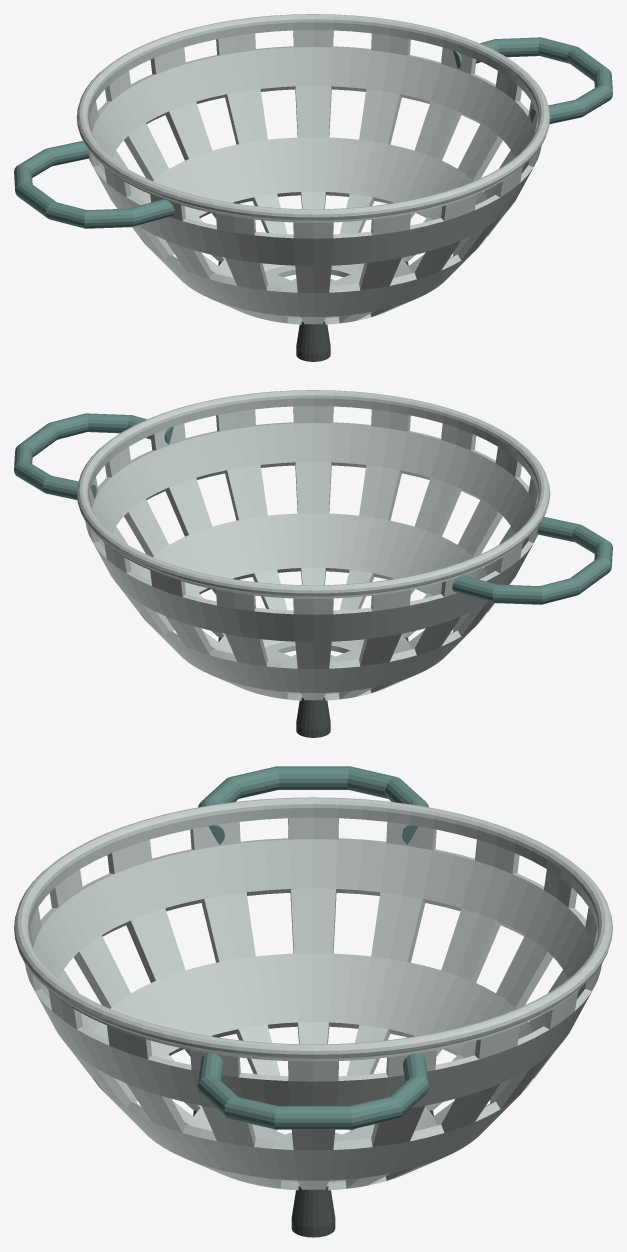
3 renders of one model, top to bottom at view 1: azimuth 30°, elevation 25°; view 2: azimuth 150°, elevation 25°; view 3: azimuth 270°, elevation 25°, orthographic. The views are drawn at different scales.
Parts seen in each view (by area): view 1: WholeRoundSideAndFloorPerforatedBowl, WholeContinuousRolledTopRim, WholeOutwardReturnLoopHandle_-1, WholeOutwardReturnLoopHandle_1, WholeThreeCompleteGroundFeet; view 2: WholeRoundSideAndFloorPerforatedBowl, WholeContinuousRolledTopRim, WholeOutwardReturnLoopHandle_-1, WholeOutwardReturnLoopHandle_1, WholeThreeCompleteGroundFeet; view 3: WholeRoundSideAndFloorPerforatedBowl, WholeContinuousRolledTopRim, WholeOutwardReturnLoopHandle_1, WholeOutwardReturnLoopHandle_-1, WholeThreeCompleteGroundFeet.
Boxes of the visible parts, x1,y1,x2,y2 form: WholeRoundSideAndFloorPerforatedBowl: (88, 22, 541, 324); WholeContinuousRolledTopRim: (76, 14, 550, 220); WholeOutwardReturnLoopHandle_-1: (14, 141, 174, 228); WholeOutwardReturnLoopHandle_1: (453, 37, 612, 123); WholeThreeCompleteGroundFeet: (218, 261, 408, 361); WholeRoundSideAndFloorPerforatedBowl: (85, 398, 538, 700); WholeContinuousRolledTopRim: (76, 390, 550, 596); WholeOutwardReturnLoopHandle_-1: (452, 517, 612, 604); WholeOutwardReturnLoopHandle_1: (14, 413, 173, 499); WholeThreeCompleteGroundFeet: (218, 637, 408, 737); WholeRoundSideAndFloorPerforatedBowl: (25, 807, 601, 1190); WholeContinuousRolledTopRim: (14, 797, 612, 1058); WholeOutwardReturnLoopHandle_1: (197, 1053, 429, 1129); WholeOutwardReturnLoopHandle_-1: (198, 766, 428, 844); WholeThreeCompleteGroundFeet: (193, 1110, 433, 1237).
Size of the model in its own units: 0.4527 by 0.155 by 0.328.
